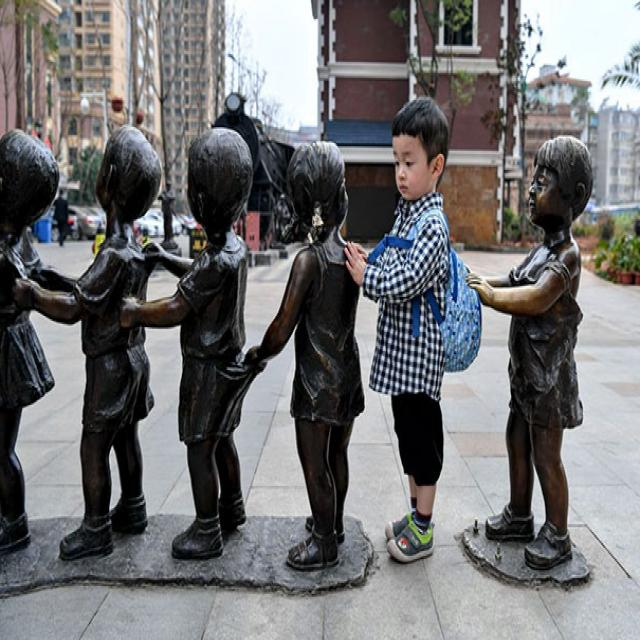child: (344, 94, 454, 566)
